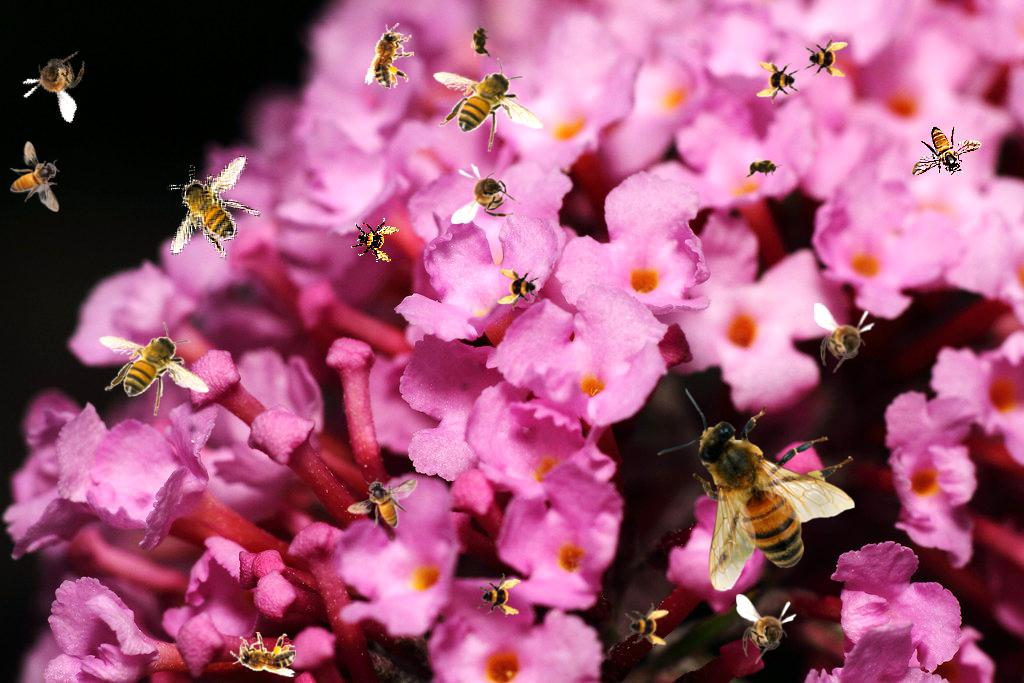Bee: (656, 388, 855, 592), (156, 142, 271, 270), (433, 58, 544, 152), (99, 322, 210, 416), (14, 36, 97, 124), (736, 594, 797, 664), (814, 303, 875, 373), (451, 163, 521, 224), (364, 19, 418, 92), (911, 126, 982, 176), (347, 478, 418, 528), (10, 141, 60, 212), (230, 632, 296, 677), (349, 213, 401, 265), (476, 572, 522, 618), (804, 35, 848, 79), (497, 267, 541, 311), (756, 60, 800, 104), (625, 603, 669, 647), (743, 157, 783, 179), (470, 21, 492, 61)
